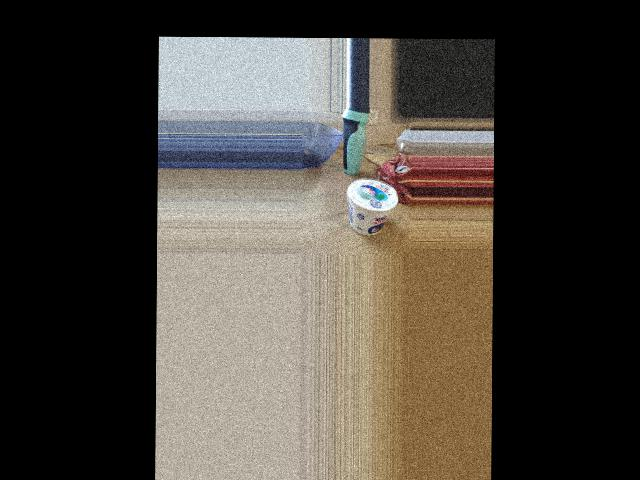cotage: (343, 174, 390, 238)
